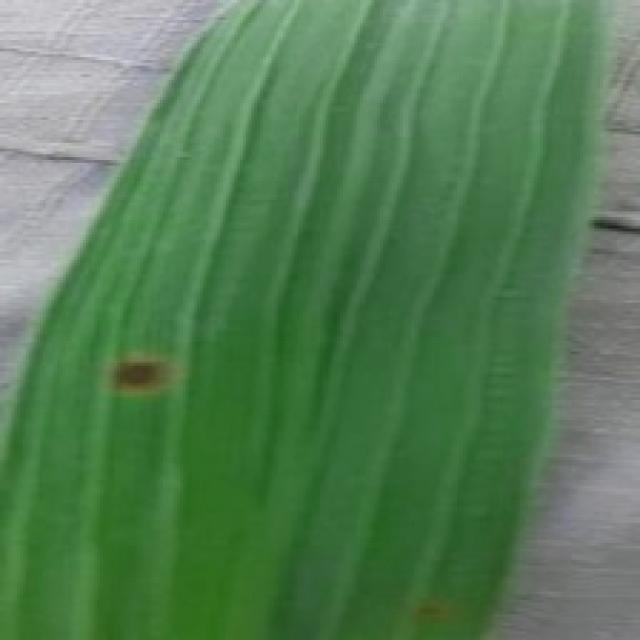Unhealthy: (102, 353, 183, 399), (411, 600, 452, 627)
